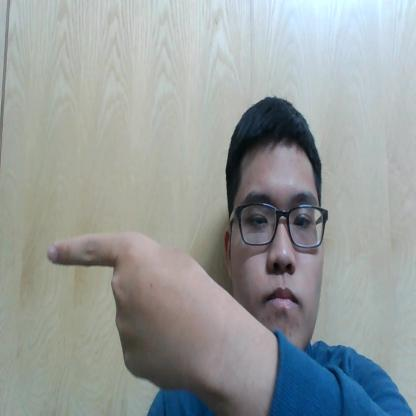right: (41, 221, 219, 402)
